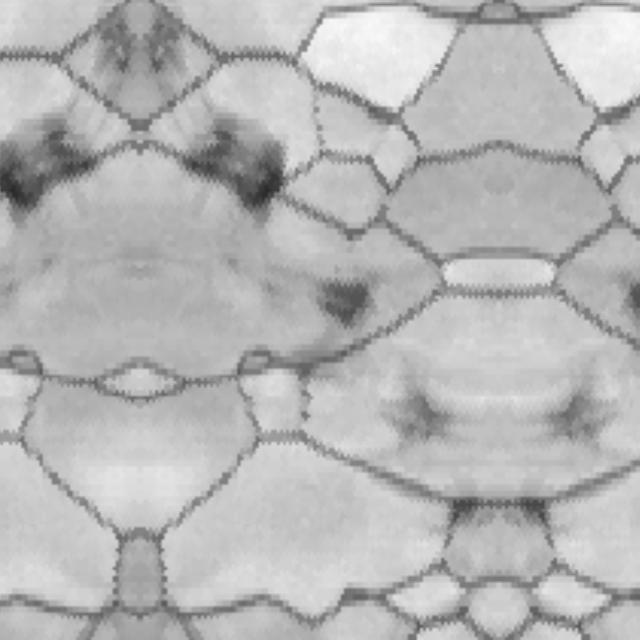good_void: (165, 103, 292, 237), (0, 103, 116, 237), (299, 262, 386, 339), (140, 0, 198, 92), (376, 382, 452, 452), (548, 382, 624, 452), (83, 0, 140, 92), (440, 486, 483, 534), (517, 486, 560, 534), (614, 270, 640, 334)
